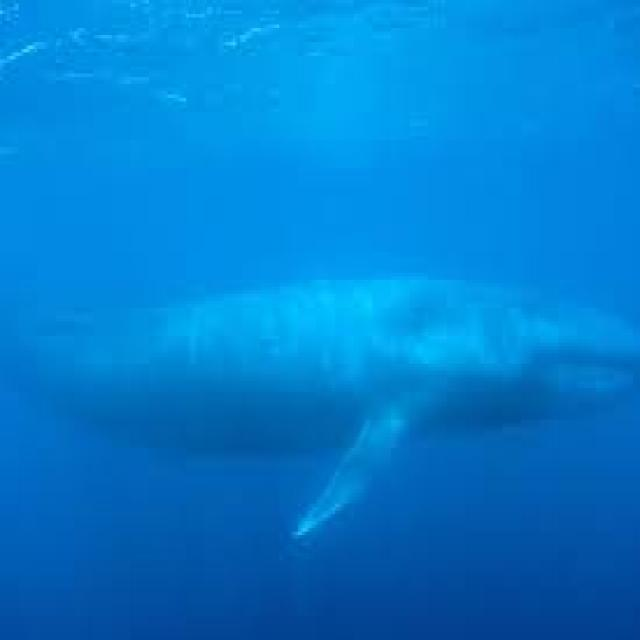blue_whale: (51, 259, 640, 580)
